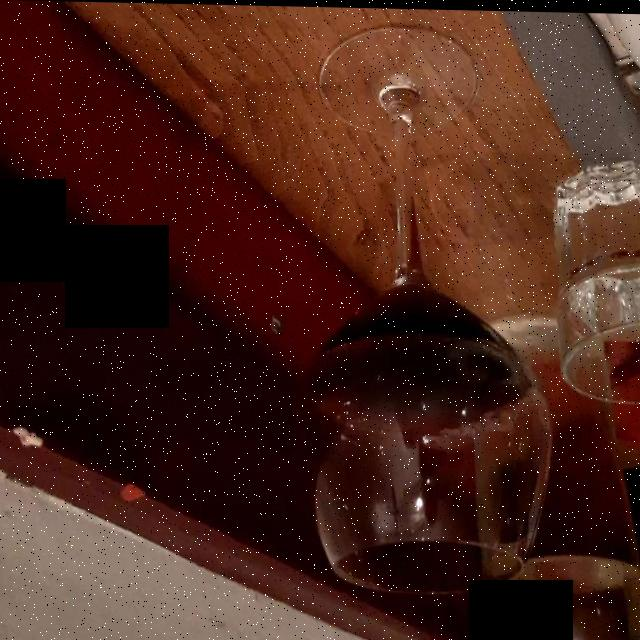wine-red: (308, 292, 542, 451)
